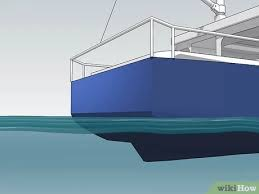boat: (68, 1, 259, 163)
